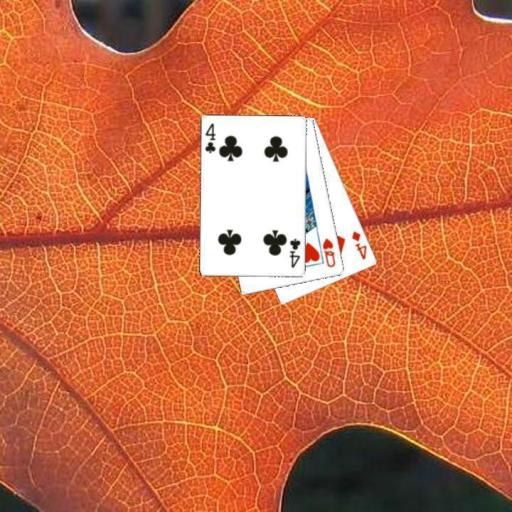card-corner: (348, 228, 368, 261), (319, 235, 337, 269), (202, 120, 218, 155), (286, 236, 302, 270)
